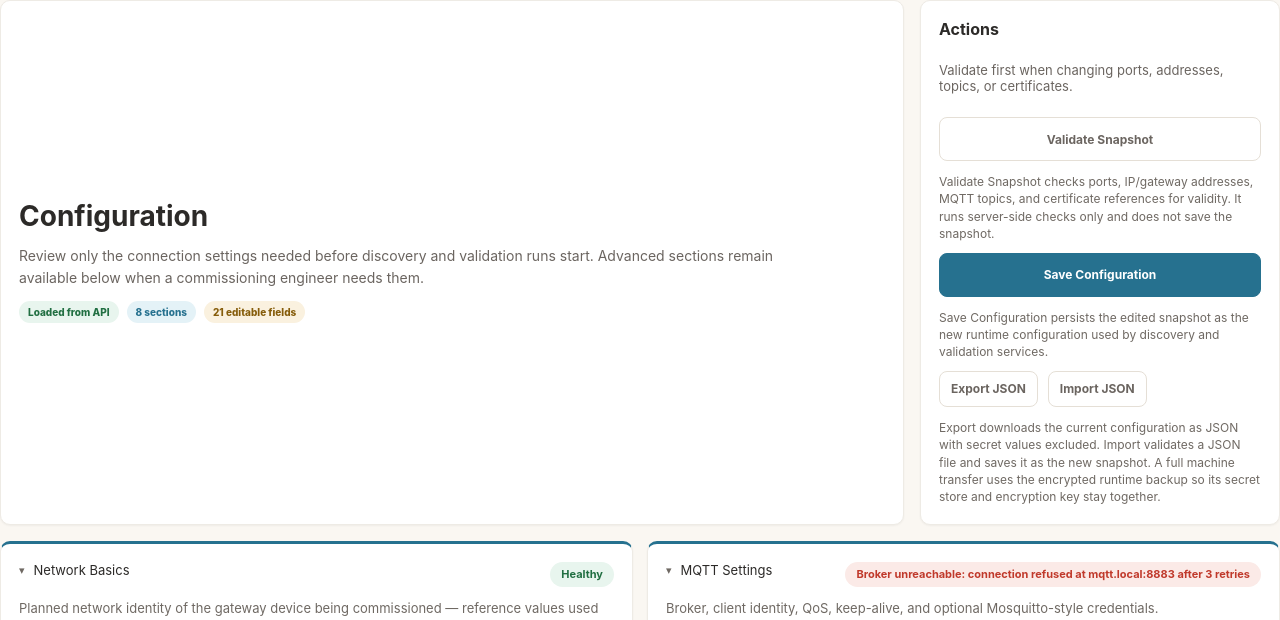
Test case: ConfigurationPage › flags a wired-default Source Interface as not saved until Save Configuration
This screenshot has width=1280, height=620.
What coordinates should you click on to do the following:
click the button "Save Configuration"
I would click on:
 (1100, 275)
Its box is top-left (939, 253), bottom-right (1261, 297).
(page scrolled)
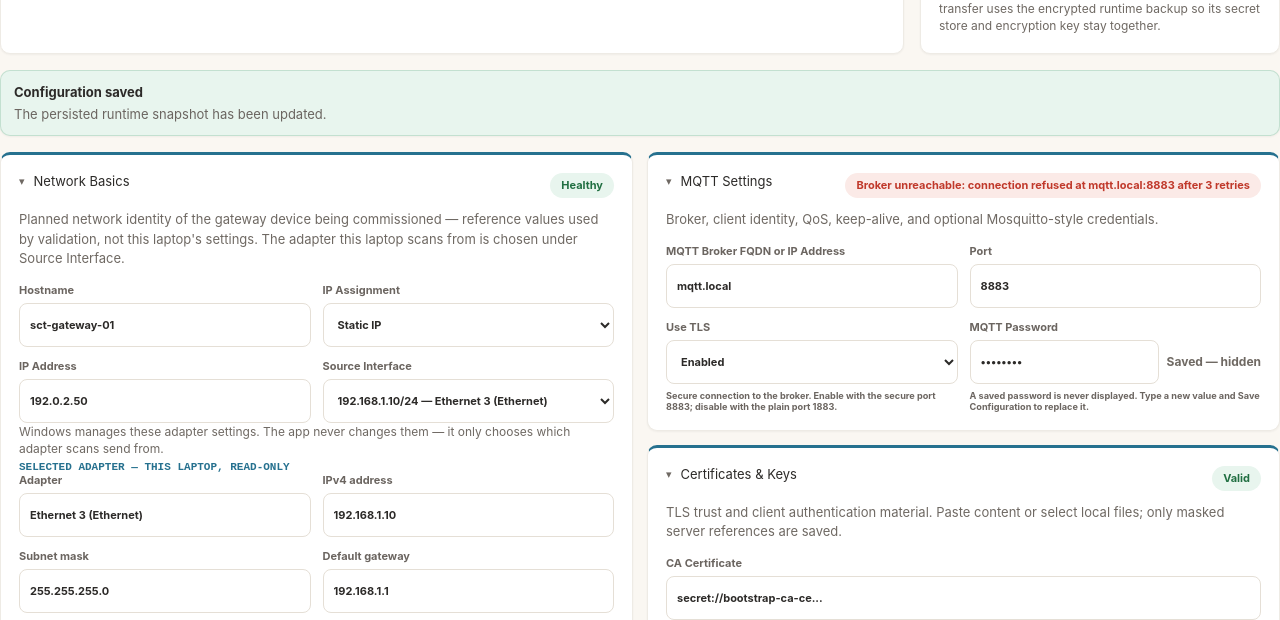
Expected: the dropdown labelled "Source Interface" shows "192.168.1.10/24 — Ethernet 3 (Ethernet)", top-left (322, 379), bottom-right (614, 423)
Expected: the text "Configuration saved" is shown, top-left (14, 84), bottom-right (143, 100)
